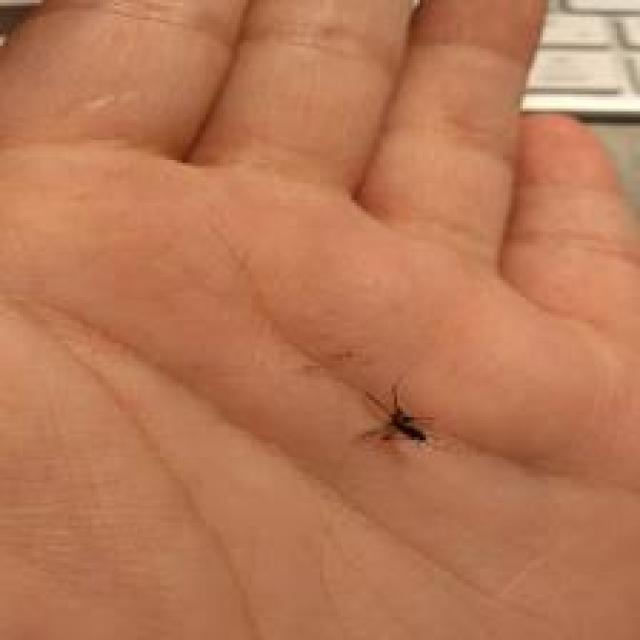Aedes albopictus: (360, 383, 434, 448)
